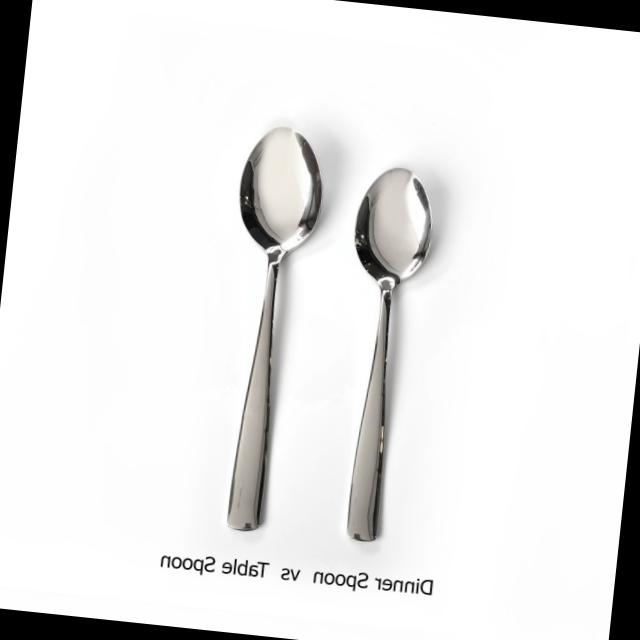spoon: (188, 103, 340, 560)
